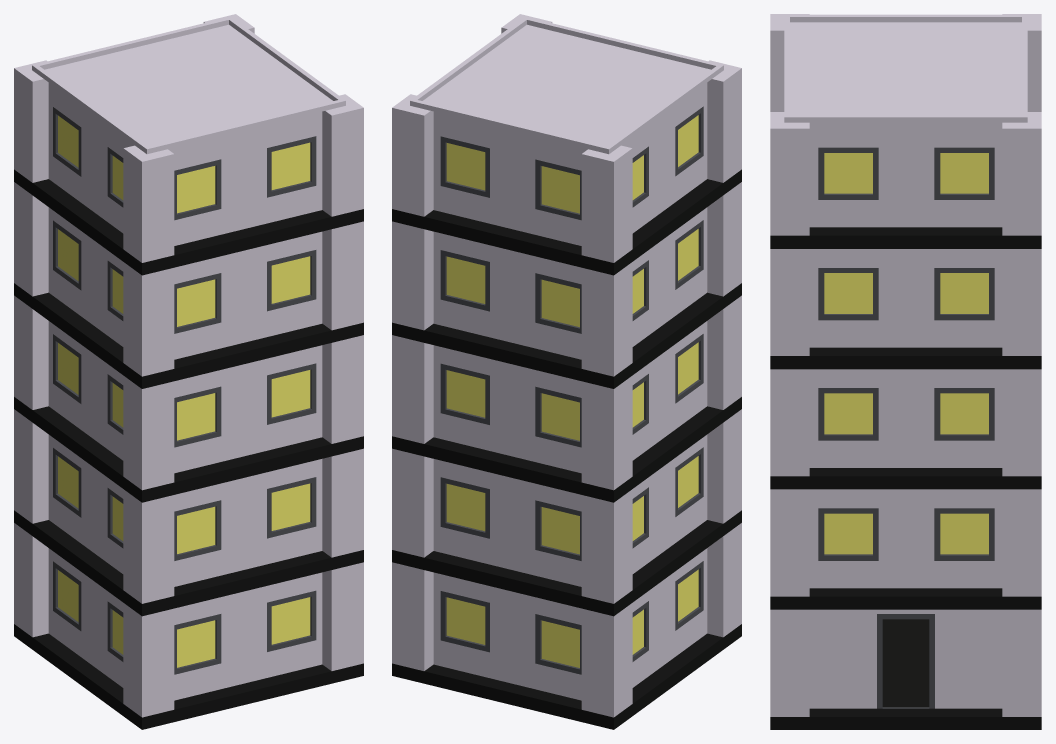
Rendered from bill2.obj.
3 renders of one model, left to right at view 1: azimuth 30°, elevation 25°; view 2: azimuth 150°, elevation 25°; view 3: azimuth 270°, elevation 25°, orthographic. The views are drawn at different scales.
Visible parts, largest first — view 1: building_004_building_004_mesh_mat_walls, building_004_building_004_mesh_mat_slabs, building_004_building_004_mesh_mat_window, building_004_building_004_mesh_mat_frame; view 2: building_004_building_004_mesh_mat_walls, building_004_building_004_mesh_mat_slabs, building_004_building_004_mesh_mat_window, building_004_building_004_mesh_mat_frame; view 3: building_004_building_004_mesh_mat_walls, building_004_building_004_mesh_mat_slabs, building_004_building_004_mesh_mat_window, building_004_building_004_mesh_mat_frame, building_004_building_004_mesh_mat_door.
Boxes of the visible parts, x1,y1,x2,y2 form: building_004_building_004_mesh_mat_walls: (14, 14, 363, 717); building_004_building_004_mesh_mat_slabs: (14, 169, 363, 729); building_004_building_004_mesh_mat_window: (58, 115, 310, 667); building_004_building_004_mesh_mat_frame: (53, 107, 316, 674); building_004_building_004_mesh_mat_walls: (392, 14, 741, 717); building_004_building_004_mesh_mat_slabs: (392, 169, 741, 729); building_004_building_004_mesh_mat_window: (446, 115, 698, 667); building_004_building_004_mesh_mat_frame: (440, 106, 703, 674); building_004_building_004_mesh_mat_walls: (770, 14, 1041, 716); building_004_building_004_mesh_mat_slabs: (770, 227, 1041, 729); building_004_building_004_mesh_mat_window: (824, 153, 988, 554); building_004_building_004_mesh_mat_frame: (818, 147, 994, 708); building_004_building_004_mesh_mat_door: (882, 619, 929, 707).
Size of the model in its own units: 4.68 by 11.55 by 4.68.
